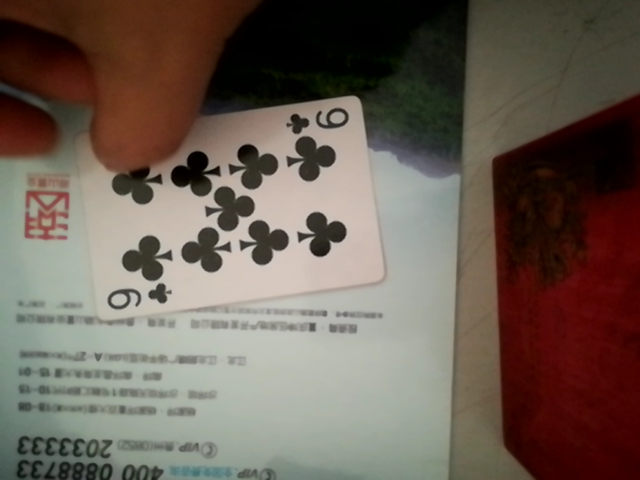mh 9: (77, 89, 384, 323)
